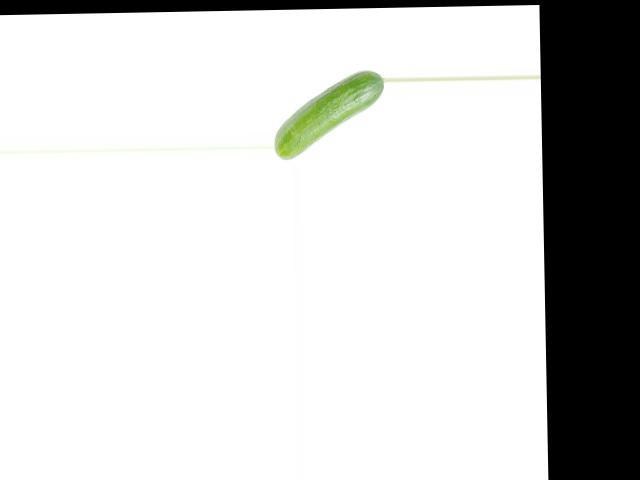cucumber: (272, 69, 386, 159)
